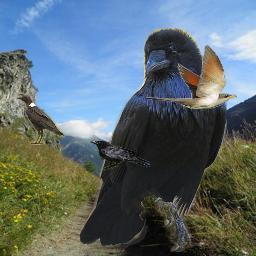Crow: (80, 27, 227, 252), (16, 93, 65, 145), (90, 140, 151, 171)
Cuckoo: (145, 45, 237, 109)
